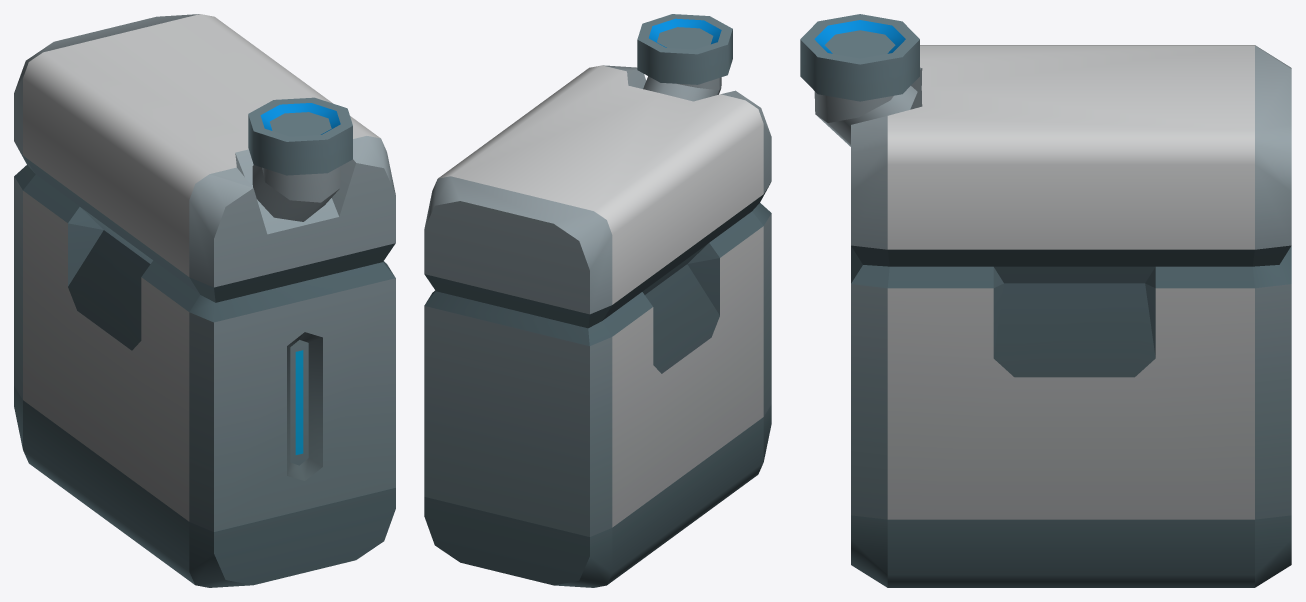
File: Gas_can_001.fbx
3 renders of one model, left to right at view 1: azimuth 30°, elevation 25°; view 2: azimuth 150°, elevation 25°; view 3: azimuth 270°, elevation 25°, orthographic. The views are drawn at different scales.
Visible parts, largest first — view 1: Gas_can_001; view 2: Gas_can_001; view 3: Gas_can_001.
Boxes of the visible parts, left/top/right/bottom form: Gas_can_001: left=14, top=14, right=395, bottom=587; Gas_can_001: left=424, top=14, right=771, bottom=587; Gas_can_001: left=800, top=14, right=1291, bottom=587.
Bounding box in the file's own units: 25.05 × 48.87 × 55.46.
